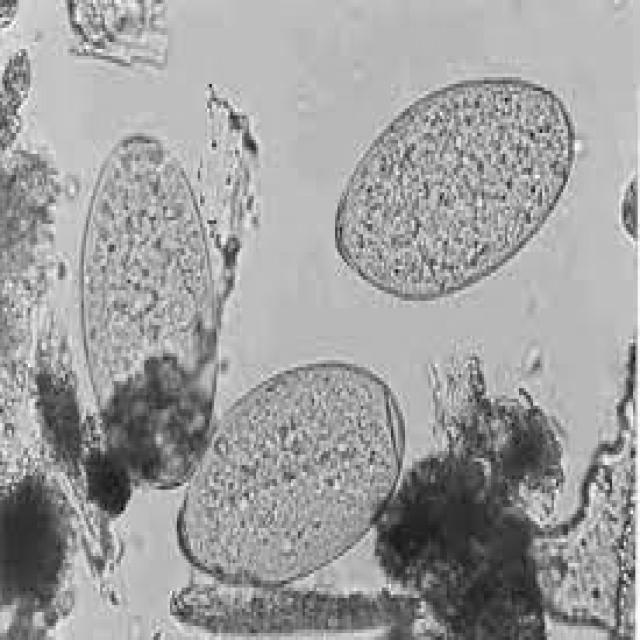Fasciola Hepatica: (329, 70, 576, 311), (171, 350, 408, 591), (74, 128, 224, 495)
